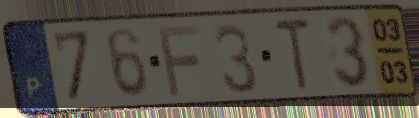3: (322, 13, 374, 92), (212, 19, 260, 97)
6: (103, 26, 150, 101)
7: (51, 27, 96, 105)
F: (154, 23, 204, 99)
T: (271, 16, 314, 94)
